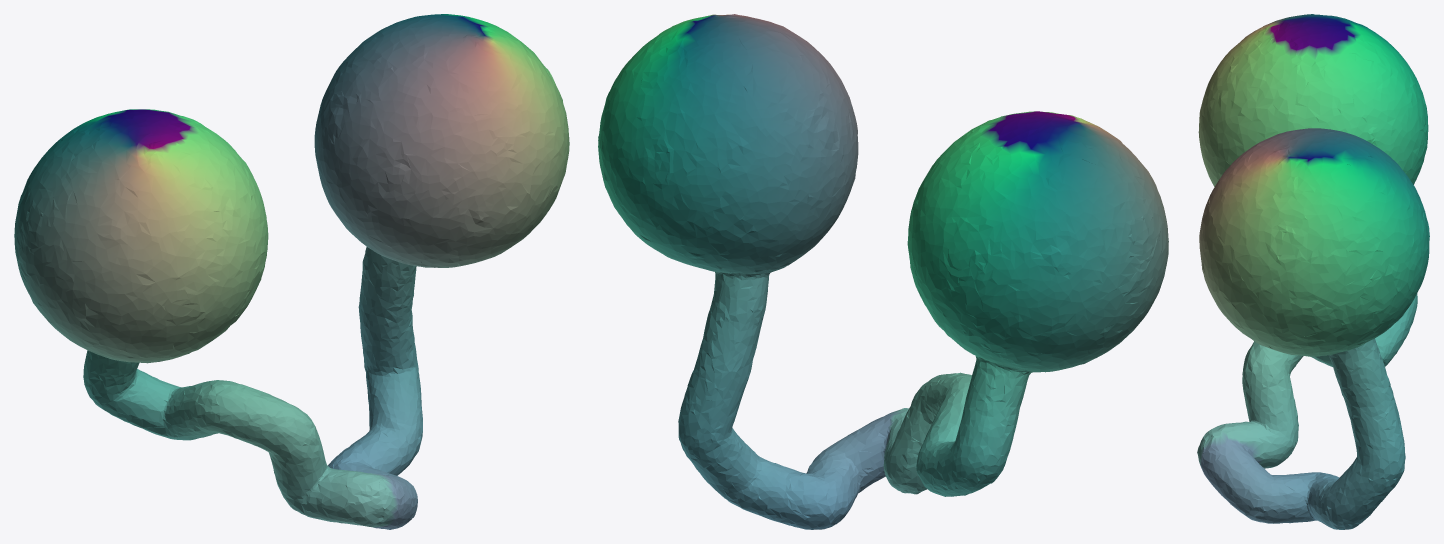
Rendered from twoballs-20.off.obj.
The picture shows the model from 3 angles, left to right: view 1: azimuth 30°, elevation 25°; view 2: azimuth 150°, elevation 25°; view 3: azimuth 270°, elevation 25°; orthographic projection. The views are drawn at different scales.
Bounding box in the file's own units: 1.73 × 1.47 × 0.7395.
